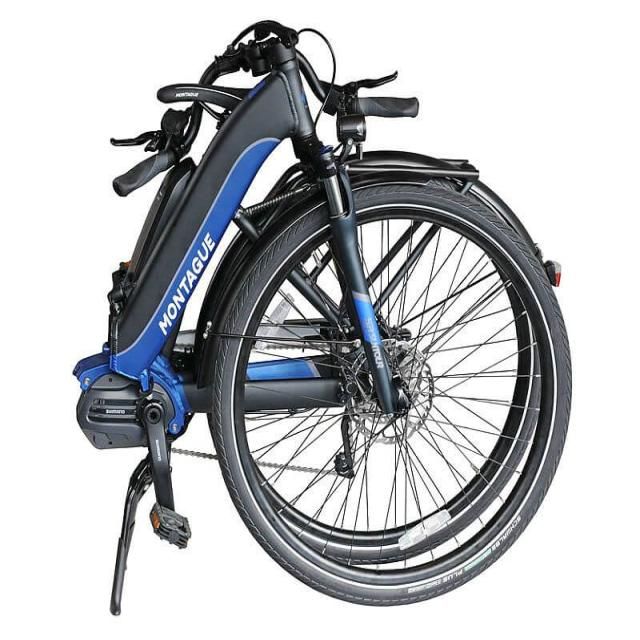folding-bike: (71, 12, 574, 624)
